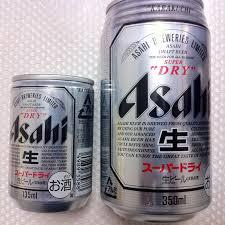beer: (9, 1, 213, 223)
